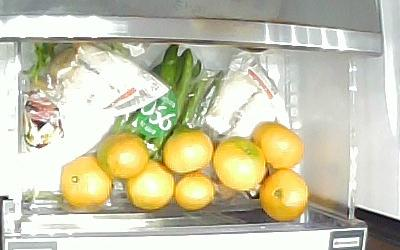tangerine: (212, 138, 268, 195), (258, 170, 310, 223), (61, 156, 113, 208), (253, 120, 306, 170), (126, 160, 175, 212), (98, 134, 149, 179), (164, 129, 213, 174), (175, 173, 215, 212)
